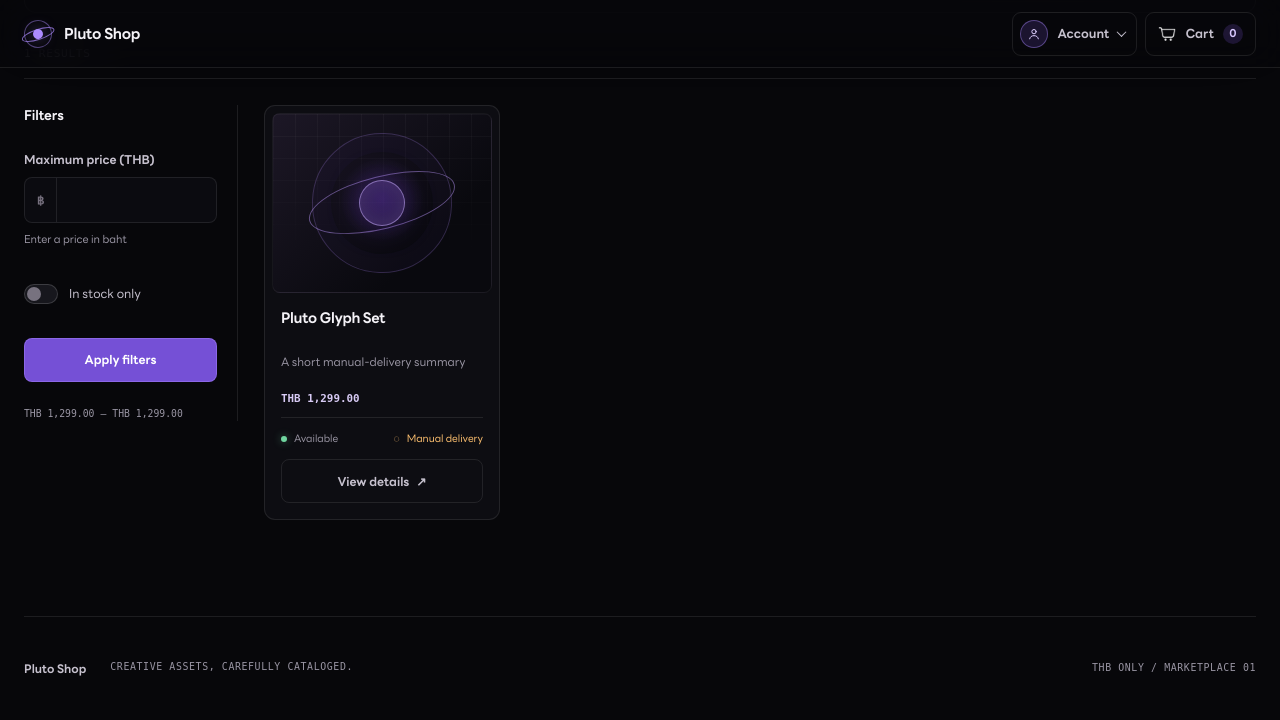
Test: marketplace querying › shows product short description, delivery type, and warranty details
(page scrolled)
Expected: the text "A short manual-delivery summary" is shown, [281, 354, 465, 369]
Expected: the text "Manual delivery" is shown, [407, 431, 483, 445]
Click the button with aria-label "View details for Pluto Glyph Set" at (382, 481), box [281, 459, 483, 503]
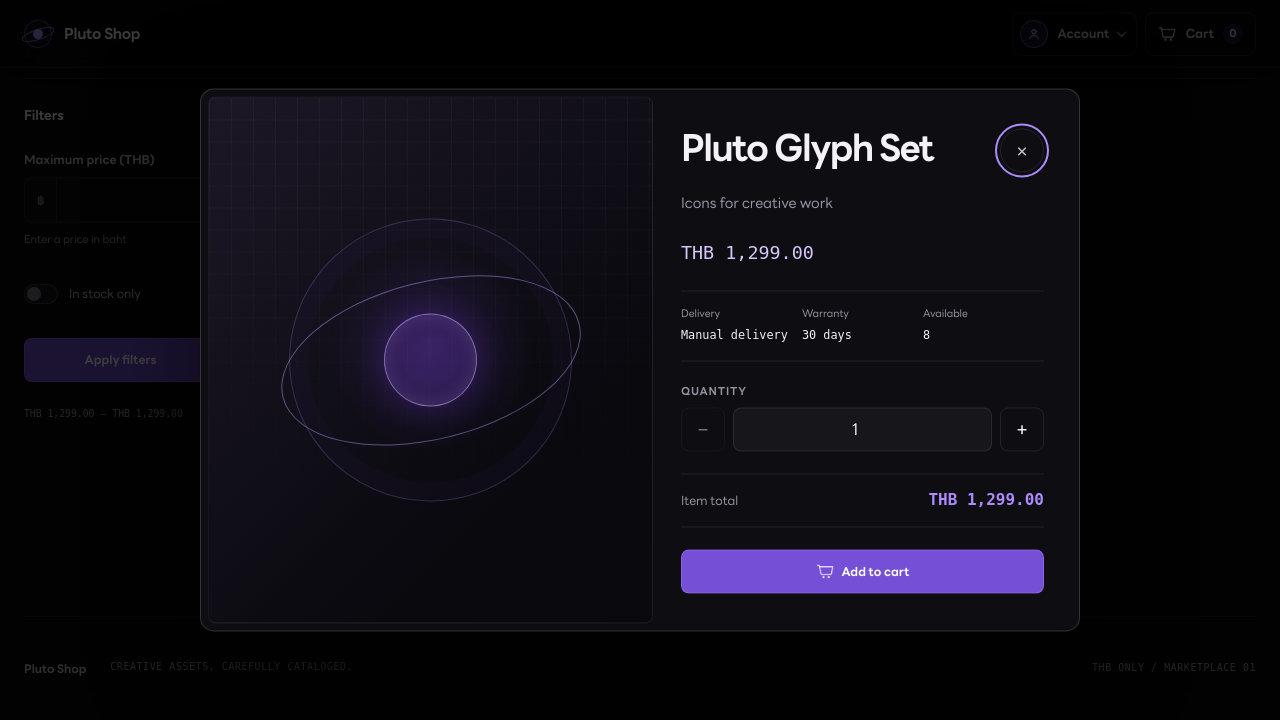
Expected: the text "Warranty" is shown, [802, 307, 849, 321]
Expected: the text "30 days" is shown, [802, 328, 852, 342]
